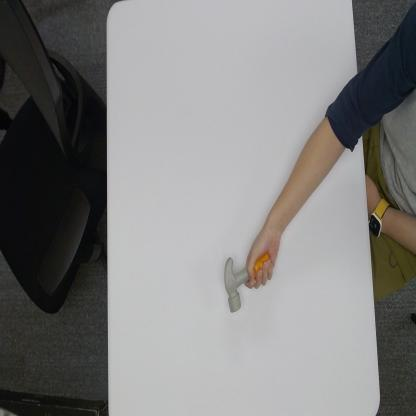Arm: (278, 80, 359, 238)
Hammer: (224, 253, 272, 313)
Hand: (247, 226, 280, 292)
